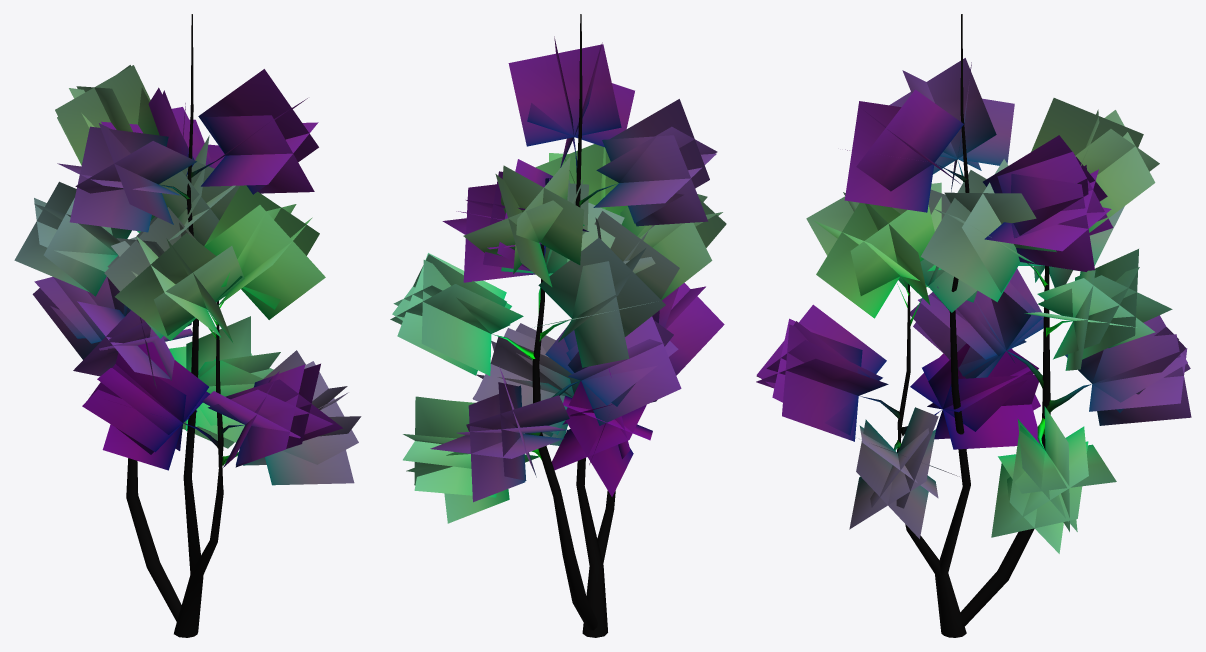
The model's file is URP_P6_Tree_8_LOD_2.fbx.
3 views of the same model, side by side, from view 1: azimuth 30°, elevation 25°; view 2: azimuth 150°, elevation 25°; view 3: azimuth 270°, elevation 25° (orthographic).
Visible parts, largest first — view 1: Tree_8_LOD_2; view 2: Tree_8_LOD_2; view 3: Tree_8_LOD_2.
Part boxes in pixels (bbox=[...]): Tree_8_LOD_2: bbox=[14, 14, 361, 637]; Tree_8_LOD_2: bbox=[390, 14, 726, 637]; Tree_8_LOD_2: bbox=[756, 14, 1191, 637].
Bounding box in the file's own units: 475 × 1112 × 705.
